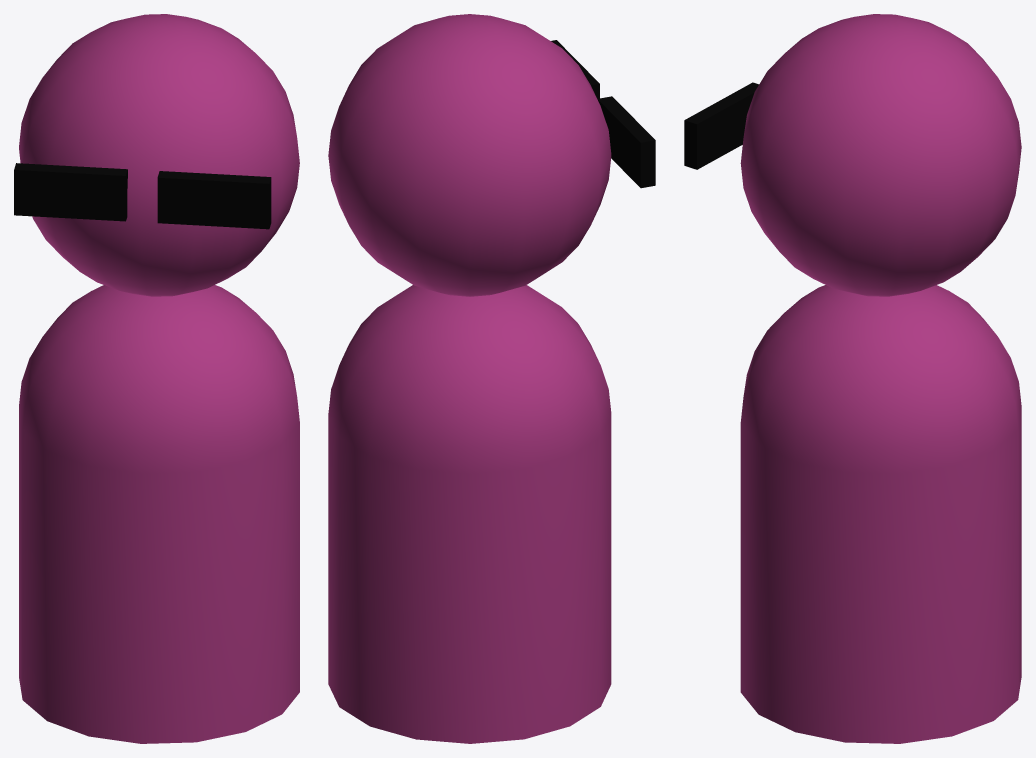
File: pink customer.fbx
3 renders of one model, left to right at view 1: azimuth 30°, elevation 25°; view 2: azimuth 150°, elevation 25°; view 3: azimuth 270°, elevation 25°, orthographic.
Parts seen in each view (by area): view 1: pink customer, right eyebrow.002; view 2: pink customer, right eyebrow.002; view 3: pink customer, right eyebrow.002.
Boxes of the visible parts, x1,y1,x2,y2 form: pink customer: [19, 14, 299, 743]; right eyebrow.002: [14, 163, 271, 229]; pink customer: [328, 14, 611, 743]; right eyebrow.002: [551, 40, 655, 188]; pink customer: [740, 14, 1021, 743]; right eyebrow.002: [684, 82, 758, 169].
Bounding box in the file's own units: 51.2 × 112 × 52.07.
